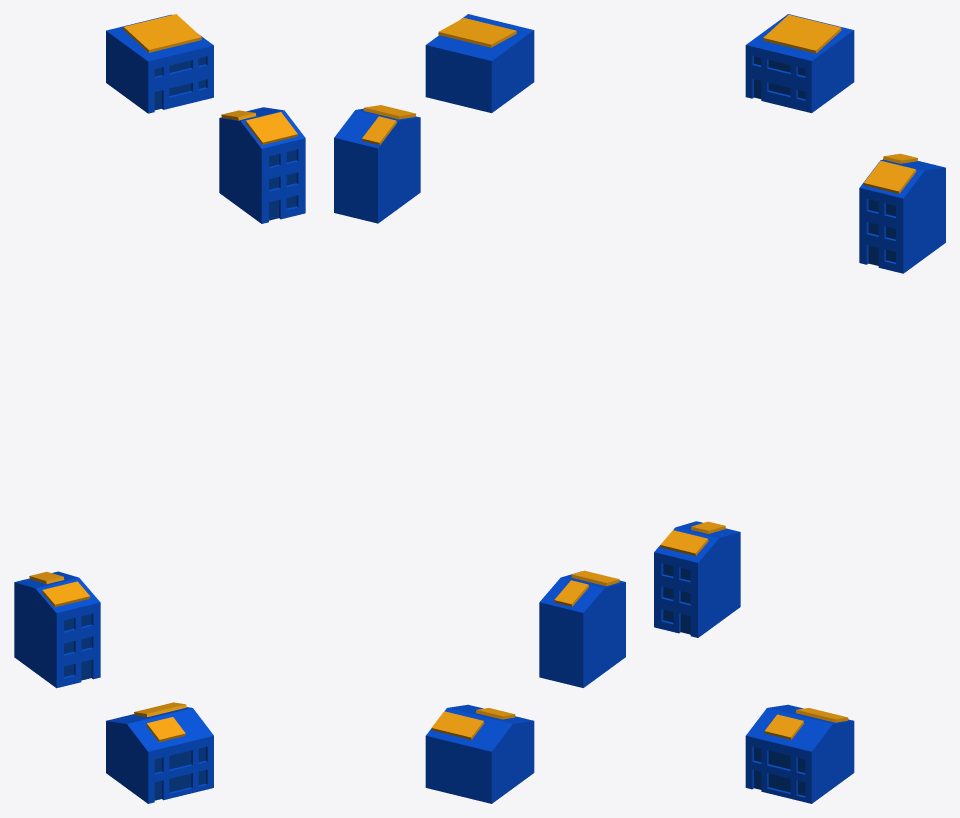
The model's file is GhostBina2.gltf.
3 renders of one model, left to right at view 1: azimuth 30°, elevation 25°; view 2: azimuth 150°, elevation 25°; view 3: azimuth 330°, elevation 25°, orthographic.
Parts seen in each view (by area): view 1: Building_012.005, Building_015.006, Building_004.006, Building_007_RoofCap_0.001; view 2: Building_012.005, Building_015.006, Building_004.006, Building_007_RoofCap_0.001; view 3: Building_012.005, Building_015.006, Building_004.006, Building_007_RoofCap_0.001.
Part boxes in pixels (x1=…): Building_012.005: x1=106, y1=702, x2=213, y2=803; Building_015.006: x1=219, y1=107, x2=305, y2=223; Building_004.006: x1=14, y1=571, x2=100, y2=688; Building_007_RoofCap_0.001: x1=106, y1=14, x2=213, y2=113; Building_012.005: x1=425, y1=704, x2=534, y2=803; Building_015.006: x1=334, y1=105, x2=420, y2=223; Building_004.006: x1=539, y1=570, x2=625, y2=687; Building_007_RoofCap_0.001: x1=425, y1=14, x2=534, y2=113; Building_012.005: x1=745, y1=704, x2=854, y2=803; Building_015.006: x1=859, y1=153, x2=945, y2=273; Building_004.006: x1=654, y1=521, x2=740, y2=637; Building_007_RoofCap_0.001: x1=745, y1=14, x2=854, y2=113.
Bounding box in the file's own units: 0.1848 × 0.5316 × 0.0543.
